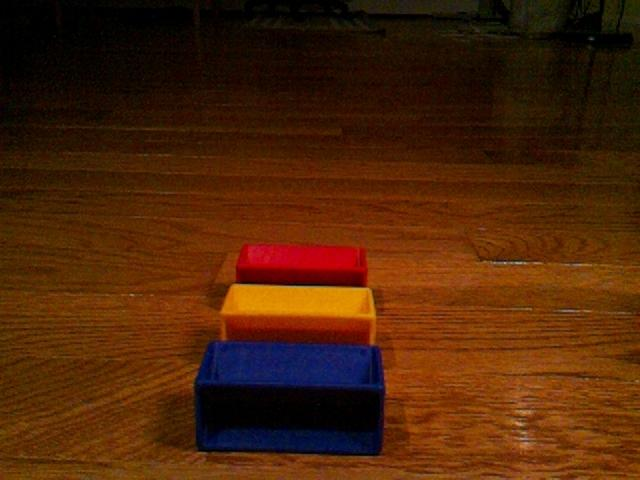blue: (193, 339, 387, 456)
red: (235, 242, 369, 286)
yellow: (219, 283, 378, 345)
